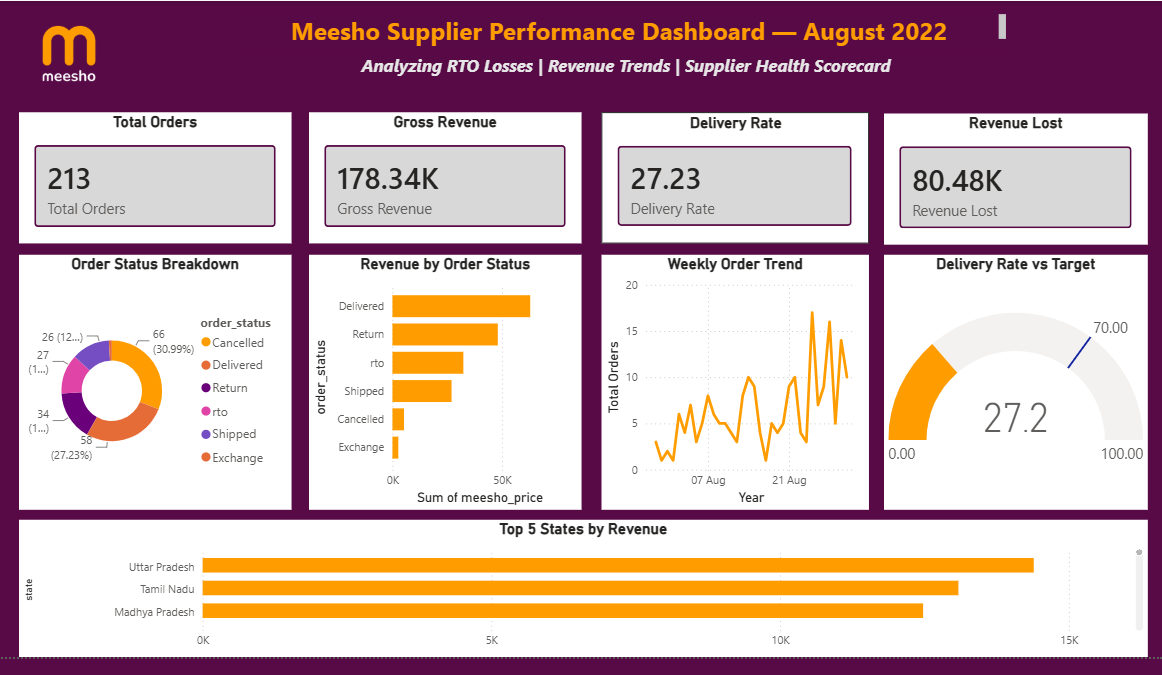

The dashboard page shown, as its layout file describes it:
{"tool":"powerbi","page":{"name":"Meesho Supplier Performance Dashboard — August 2022 ","canvas":[1280,720],"ordinal":0},"visuals":[{"type":"cardVisual","title":"Total Orders","fields":{"Data":["orders.Total Orders"]},"box":[22,122.1,299.1,144.1],"z":0},{"type":"cardVisual","title":"Gross Revenue","fields":{"Data":["orders.Gross Revenue"]},"box":[340.3,122.1,299.1,144.1],"z":1000},{"type":"cardVisual","title":"Delivery Rate","fields":{"Data":["orders.Delivery Rate"]},"box":[661.4,122.1,293.7,144.1],"z":2000},{"type":"cardVisual","title":"Revenue Lost","fields":{"Data":["orders.Revenue Lost"]},"box":[971.5,123.5,289.5,144.1],"z":3000},{"type":"donutChart","title":"Order Status Breakdown","fields":{"Category":["orders.order_status"],"Y":["orders.Total Orders"]},"box":[22,278.6,299.1,279.9],"z":4000},{"type":"clusteredBarChart","title":"Revenue by Order Status","fields":{"Category":["orders.order_status"],"Y":["Sum(orders.meesho_price)"]},"box":[340.3,278.6,299.1,279.9],"z":5000},{"type":"lineChart","title":"Weekly Order Trend","fields":{"Y":["orders.Total Orders"],"Category":["orders.order_date.Variation.Date Hierarchy.Year","orders.order_date.Variation.Date Hierarchy.Quarter","orders.order_date.Variation.Date Hierarchy.Month","orders.order_date.Variation.Date Hierarchy.Day"]},"box":[661.4,278.6,293.7,279.9],"z":6000},{"type":"textbox","box":[266.2,9.6,843.9,53.5],"z":7000},{"type":"image","box":[0,2.7,167.4,119.4],"z":8000},{"type":"textbox","box":[369.1,53.5,639.5,45.3],"z":9000},{"type":"gauge","title":"Delivery Rate vs Target","fields":{"Y":["orders.Delivery Rate"]},"box":[971.5,278.6,289.5,279.9],"z":10000},{"type":"clusteredBarChart","title":"Top 5 States by Revenue","fields":{"Category":["orders.state"],"Y":["orders.Gross Revenue"]},"box":[22,569.5,1239.1,150.9],"z":11000}]}

Visuals, with their boxes on the page's 1280x720 design canvas (x1, y1, x2, y2). These are canvas units, not pixel positions in the 1162x675 screenshot, which may show the page scaled, cropped or inside an application window:
"Total Orders" cardVisual: <region>22, 122, 321, 266</region>
"Gross Revenue" cardVisual: <region>340, 122, 639, 266</region>
"Delivery Rate" cardVisual: <region>661, 122, 955, 266</region>
"Revenue Lost" cardVisual: <region>972, 124, 1261, 268</region>
"Order Status Breakdown" donutChart: <region>22, 279, 321, 558</region>
"Revenue by Order Status" clusteredBarChart: <region>340, 279, 639, 558</region>
"Weekly Order Trend" lineChart: <region>661, 279, 955, 558</region>
textbox: <region>266, 10, 1110, 63</region>
image: <region>0, 3, 167, 122</region>
textbox: <region>369, 54, 1009, 99</region>
"Delivery Rate vs Target" gauge: <region>972, 279, 1261, 558</region>
"Top 5 States by Revenue" clusteredBarChart: <region>22, 570, 1261, 720</region>
